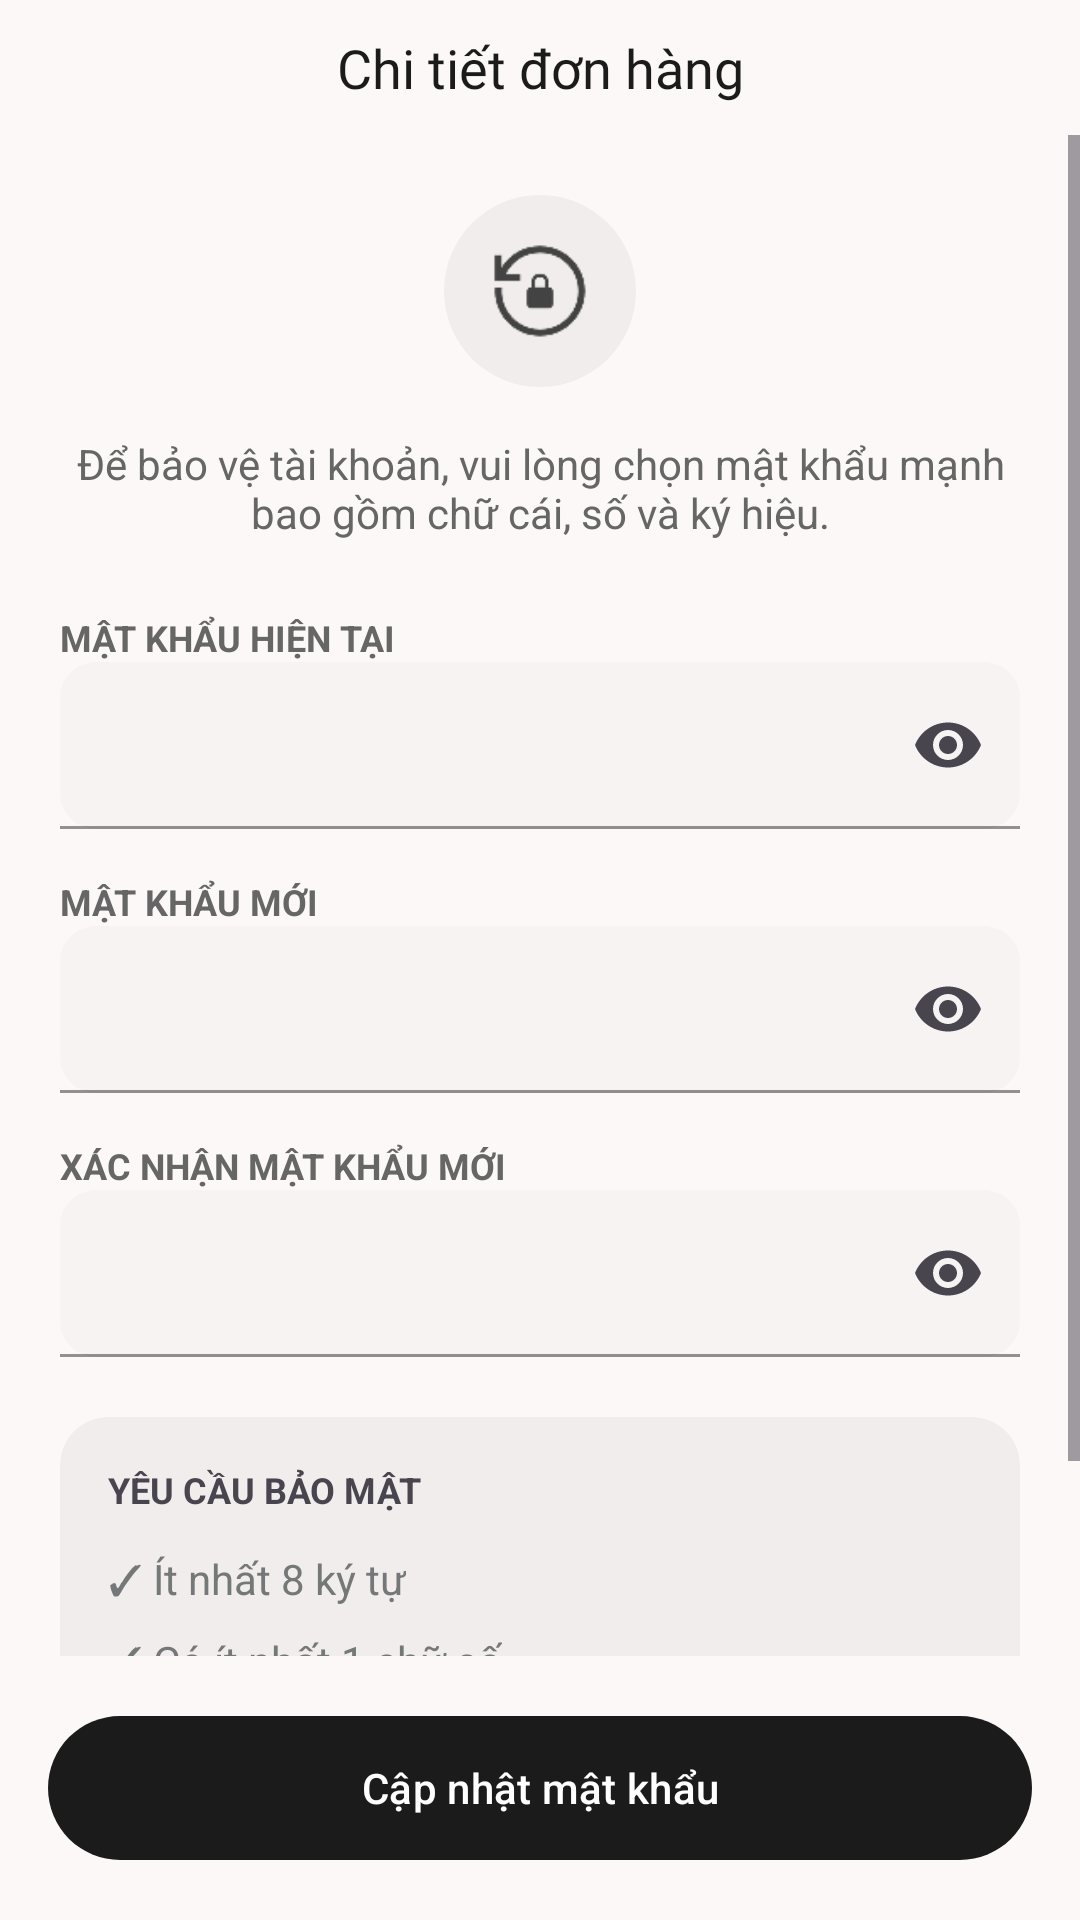

Screen size 1080×1920. Icon name, then its center in pixels as (x=x, y=y):
lock reset: (x=540, y=291)
